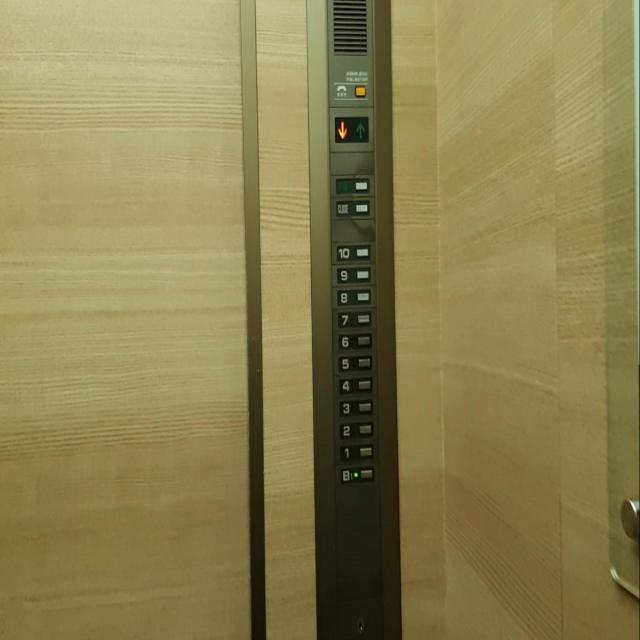1: (338, 442, 374, 462)
10: (334, 242, 371, 262)
2: (337, 418, 374, 439)
3: (337, 397, 374, 418)
4: (336, 376, 374, 395)
5: (336, 354, 373, 374)
6: (336, 331, 372, 351)
7: (336, 308, 372, 329)
8: (335, 286, 372, 306)
9: (334, 264, 372, 285)
B1: (339, 464, 374, 484)
call: (333, 80, 349, 100)
empty: (354, 84, 366, 98)
text_blur: (334, 175, 371, 195)
text_close door: (334, 196, 371, 218)
